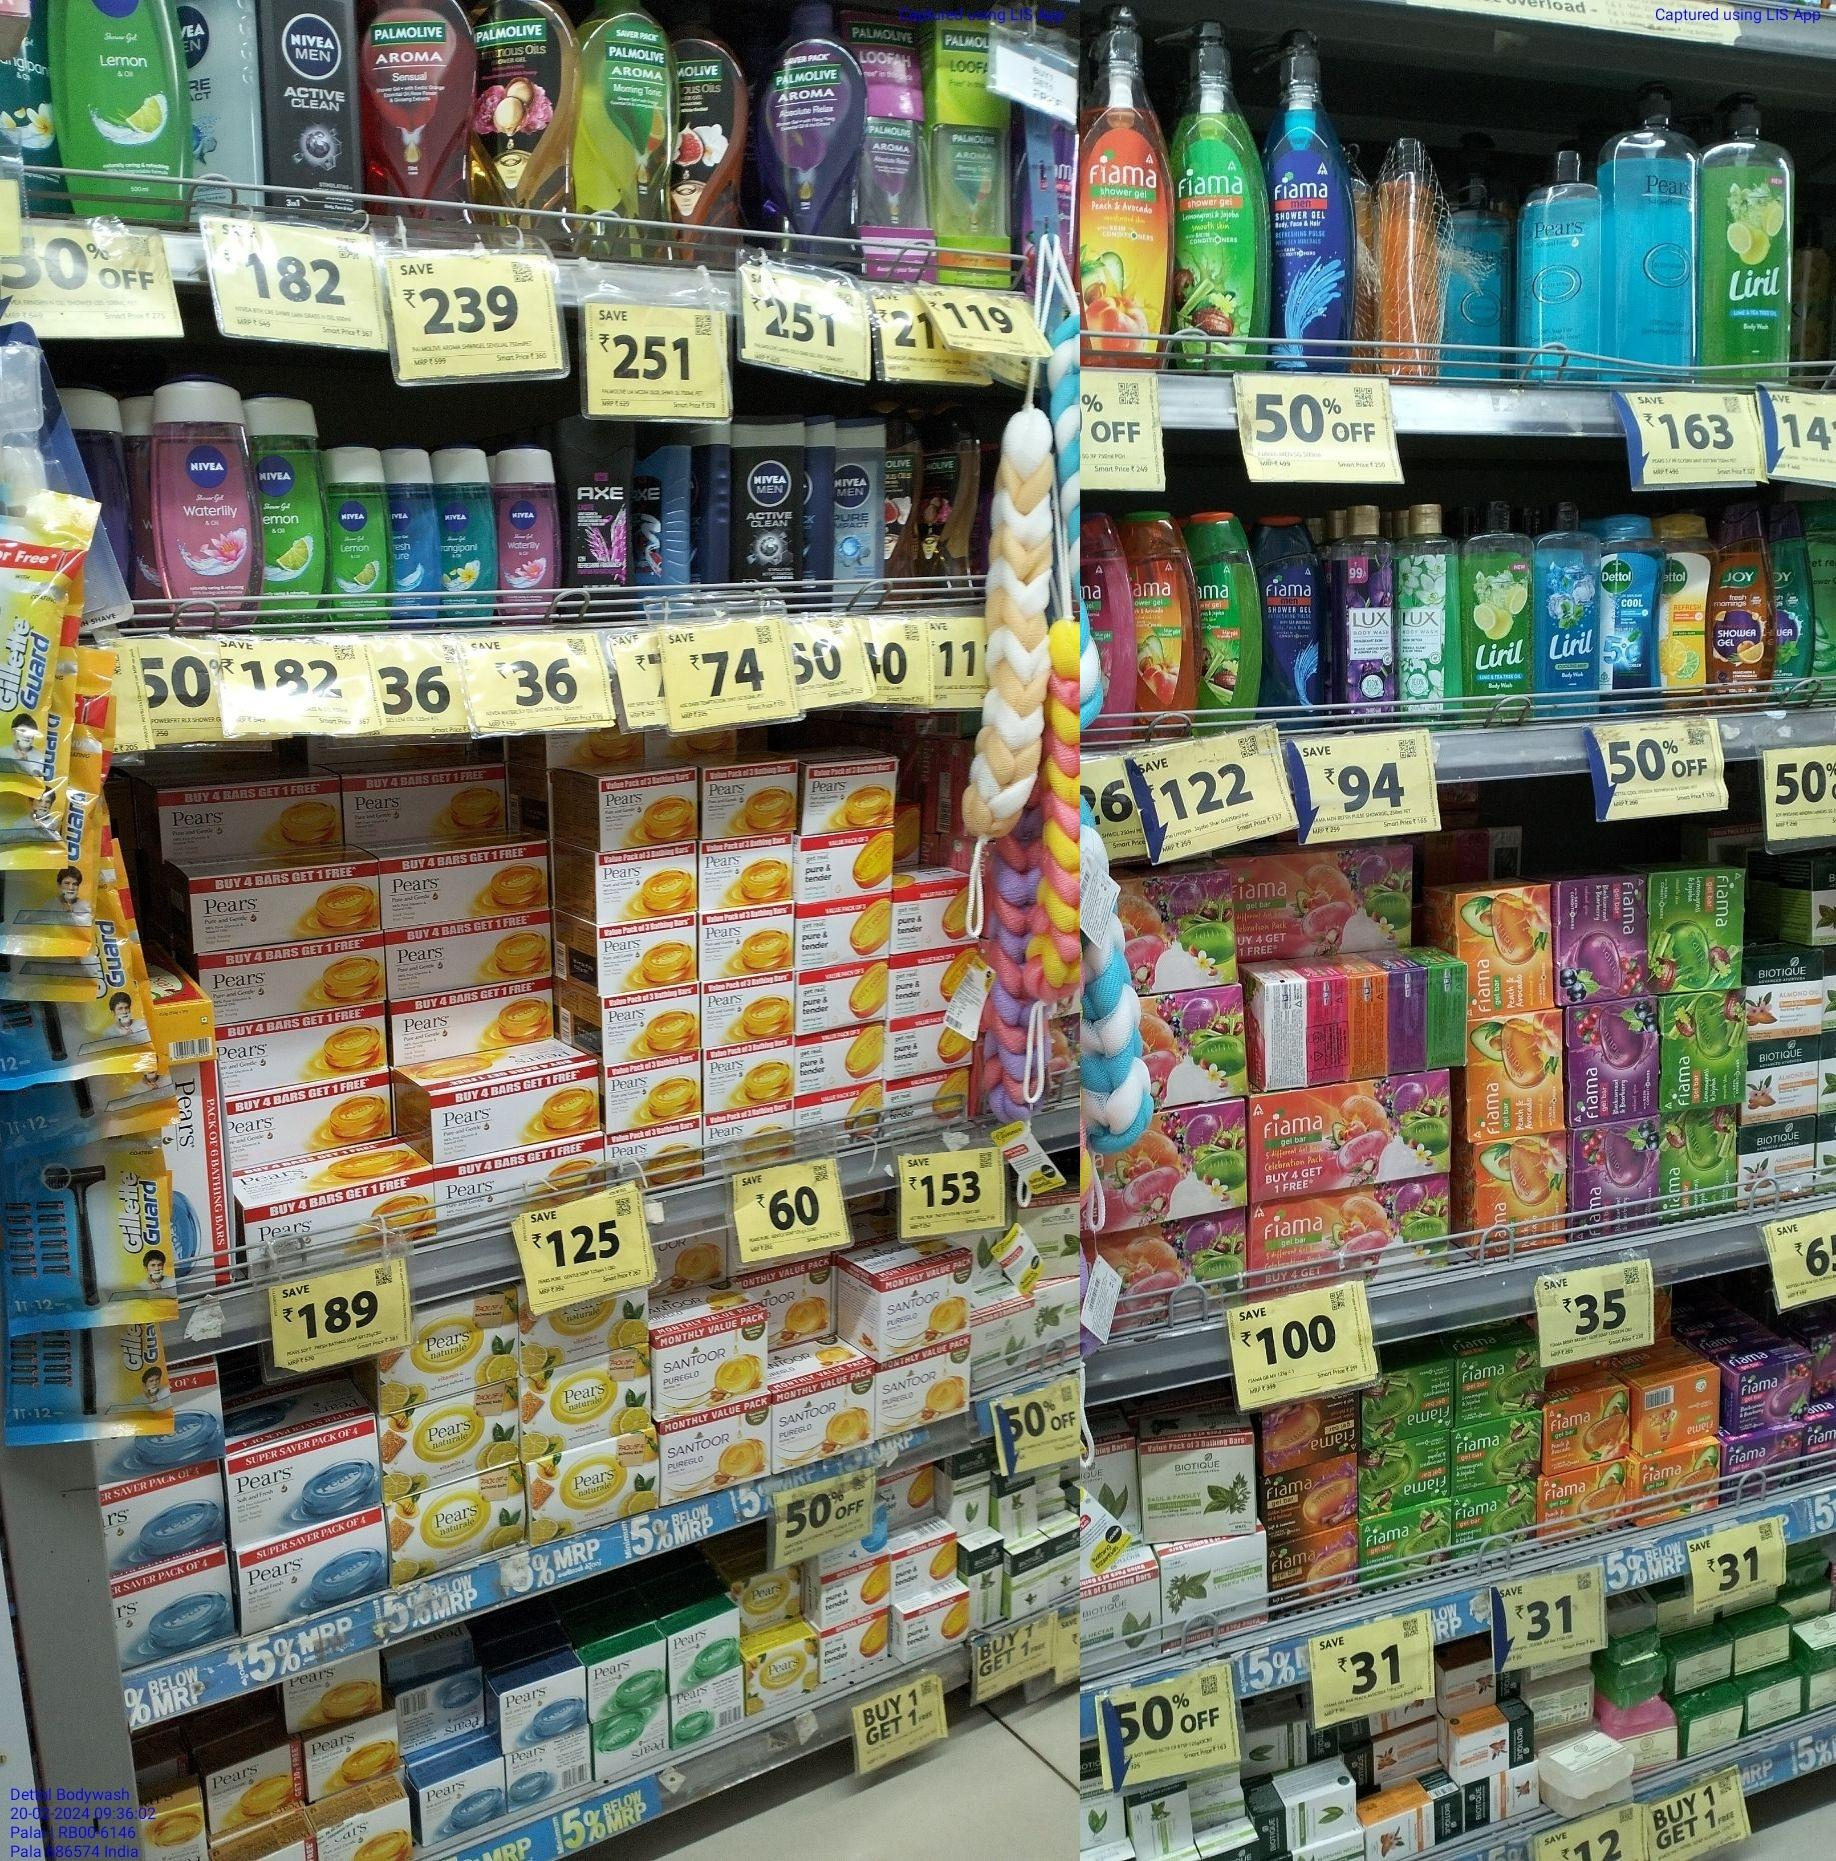Dettol_Bodywash_Cool: (1601, 516, 1654, 714)
Dettol_Bodywash_Refresh: (1659, 518, 1705, 704)
Fiama_Shower_Gel_Lemongrass_and_Jojoba_250ML: (1192, 509, 1264, 726)
Fiama_Shower_Gel_Peach_and_Avocado_250ML: (1126, 513, 1189, 736)
Joy_Shower_Gel_Mandarin_and_Lemongrass_250ML: (1713, 503, 1767, 711)
Joy_Shower_Gel_Mint_and_Eucalyptus_250ML: (1770, 496, 1812, 704)
Liril_Cooling_Mint_Body_Wash_250ML: (1535, 499, 1597, 720)
Lux_Black_Orchid_Scent_and_Juniper_Oil_Body_Wash_245ML: (1335, 504, 1394, 726)
Lux_Body_Wash_Skin_Detox_Freesia_Scent_and_Alove_Vera_245ML: (1394, 501, 1458, 723)
Nivea_Shower_Gel_Lemon_and_Oil_250ML: (55, 0, 197, 215), (264, 393, 328, 632)
Nivea_Shower_Gel_Waterlily_and_Oil_250ML: (153, 378, 259, 627), (1461, 503, 1530, 718)
Palmolive_Aroma_Relax_250ML: (760, 2, 857, 252)
Palmolive_Luminous_Oils_Invigorating_Macadamia_Oil_With_Peony_250ML: (921, 405, 979, 600)
Palmolive_Luminous_Oils_With_White_Orchid_Shower_Gel_250ML: (669, 3, 748, 254)
Pears_Pure_Glycerin_and_Mint_Extracts_Body_Wash_250ML: (1515, 156, 1604, 380)
